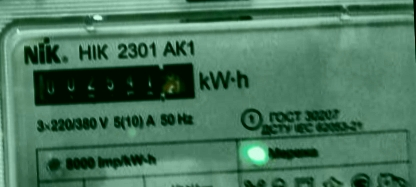0: (41, 74, 55, 95), (62, 71, 75, 92)
1: (141, 69, 153, 89)
2: (82, 71, 95, 91)
4: (122, 68, 135, 90)
5: (101, 69, 114, 92)
6: (163, 80, 175, 95)
screen: (20, 53, 204, 114)
